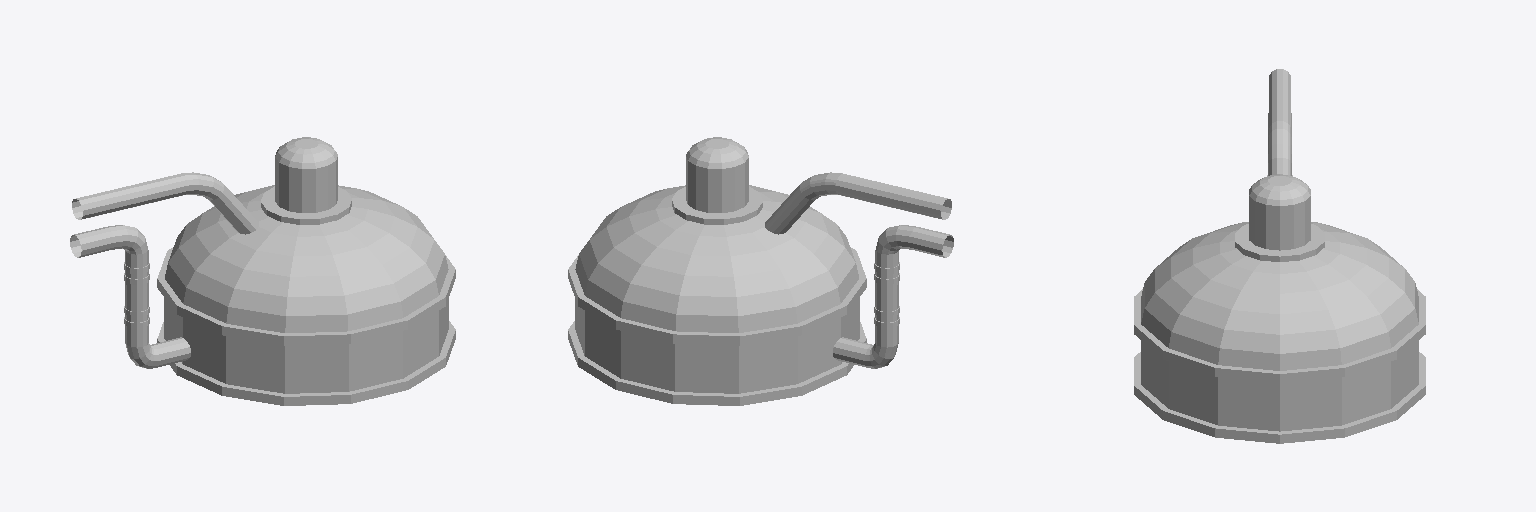
File: tanque de gas.obj
3 renders of one model, left to right at view 1: azimuth 30°, elevation 25°; view 2: azimuth 150°, elevation 25°; view 3: azimuth 270°, elevation 25°, orthographic.
Parts seen in each view (by area): view 1: Capsule001; view 2: Capsule001; view 3: Capsule001.
Part boxes in pixels (x1,y1,x2,y2): Capsule001: (70, 137, 455, 405); Capsule001: (568, 137, 953, 405); Capsule001: (1134, 69, 1425, 443).
Bounding box in the file's own units: 228 × 121 × 160.